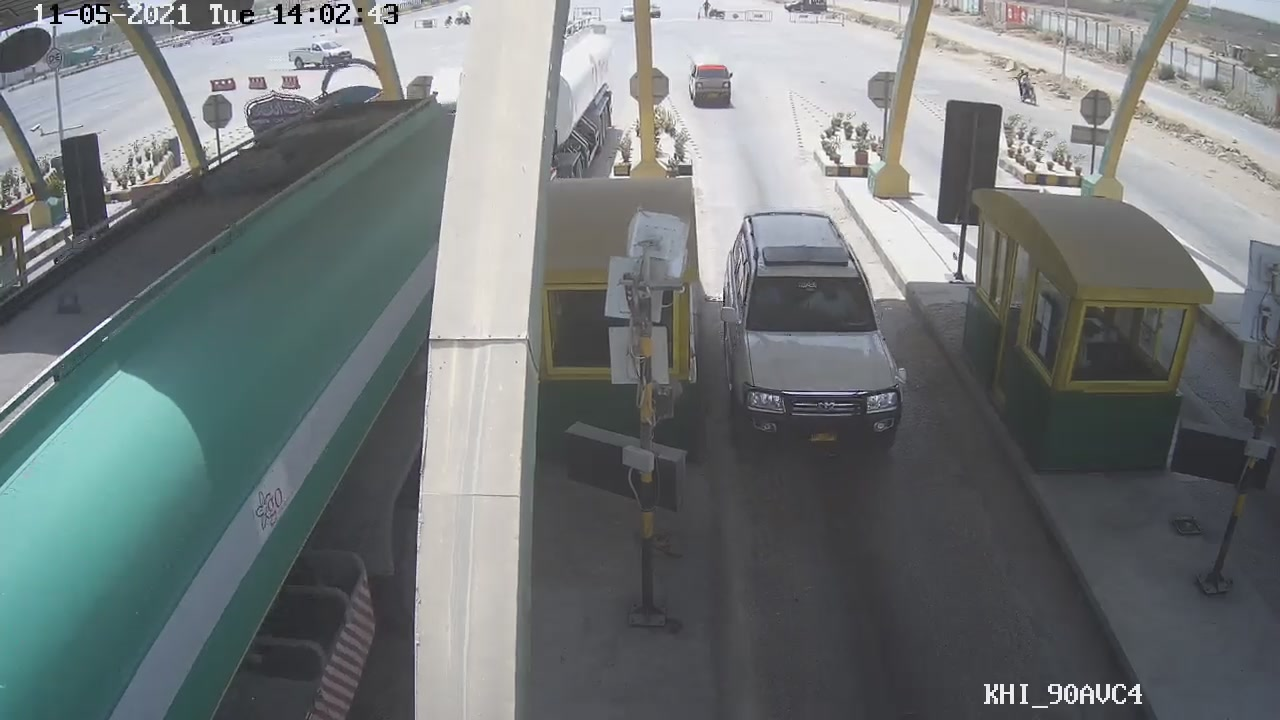F1: (716, 201, 909, 458)
